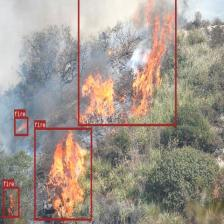fire: (77, 0, 176, 125), (34, 127, 92, 220), (3, 186, 20, 218), (14, 116, 28, 136)
